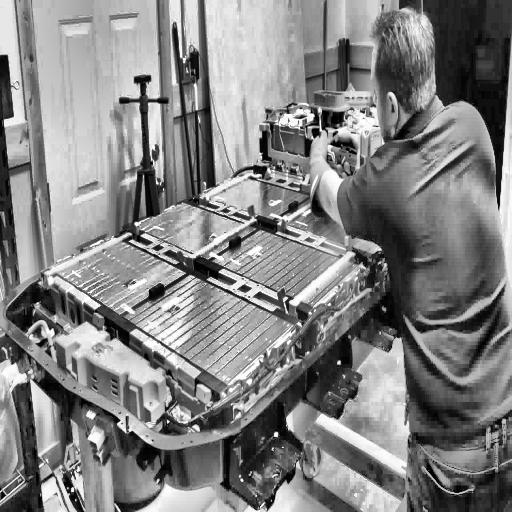battery_module: (124, 274, 293, 383), (212, 229, 356, 308), (52, 237, 187, 315), (274, 235, 359, 322), (38, 219, 145, 286), (139, 202, 257, 259), (175, 204, 263, 274), (206, 176, 310, 218), (258, 119, 315, 193)
connector: (306, 86, 348, 126)
high_volt_cable: (233, 280, 376, 414), (23, 312, 55, 360)
low_volt_cable: (155, 257, 384, 431)
